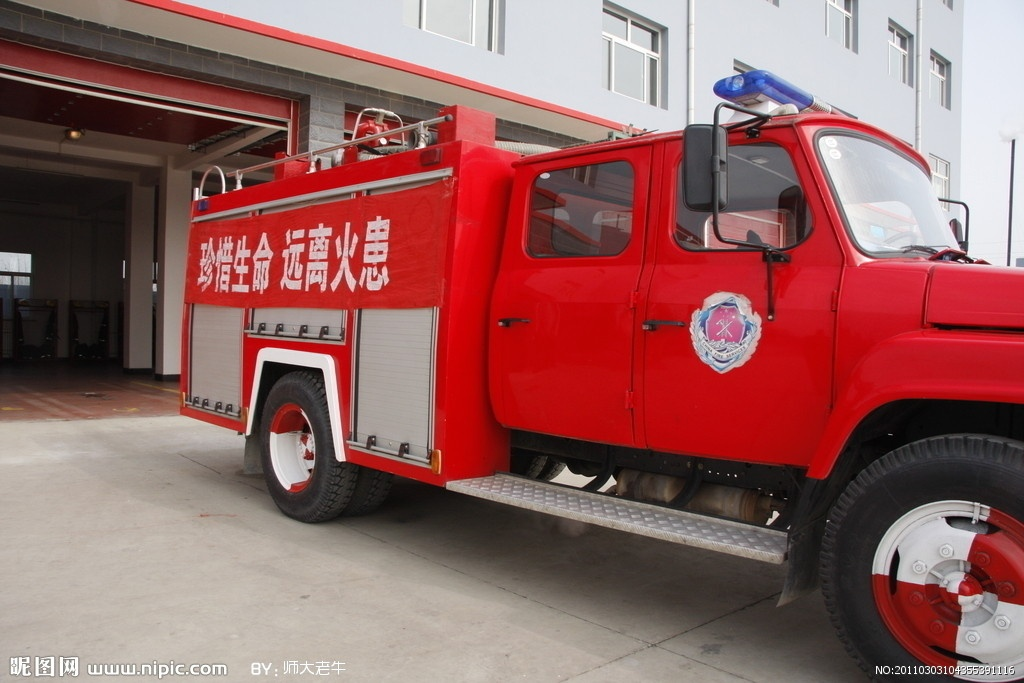fire engine: (166, 98, 1024, 643)
